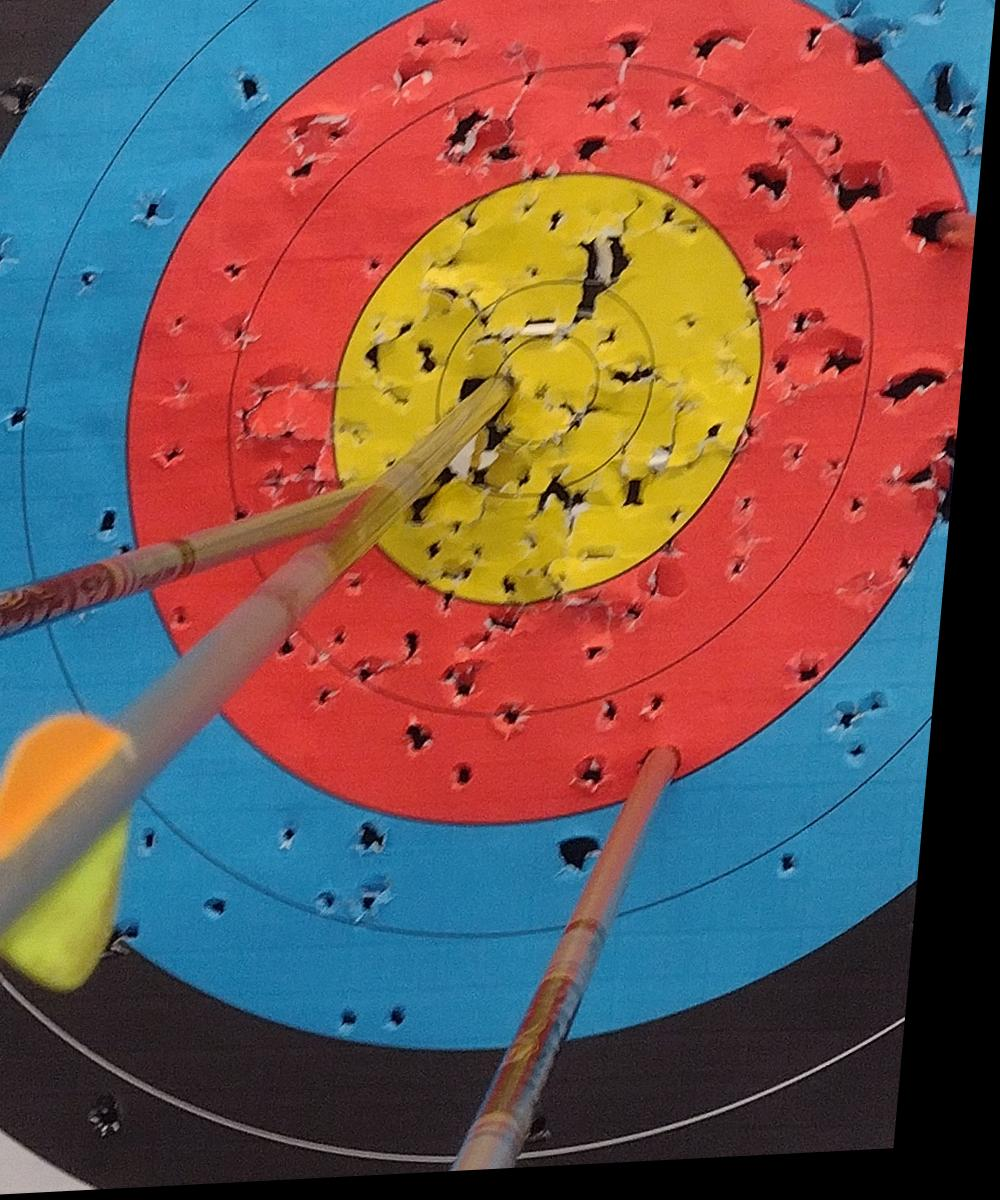10-Ring: (405, 247, 703, 544)
4-Ring: (0, 0, 997, 1167)
5-Ring: (0, 0, 997, 1057)
6-Ring: (32, 0, 995, 941)
7-Ring: (137, 0, 979, 831)
9-Ring: (261, 95, 853, 697)
Arrow: (0, 281, 522, 1022)
